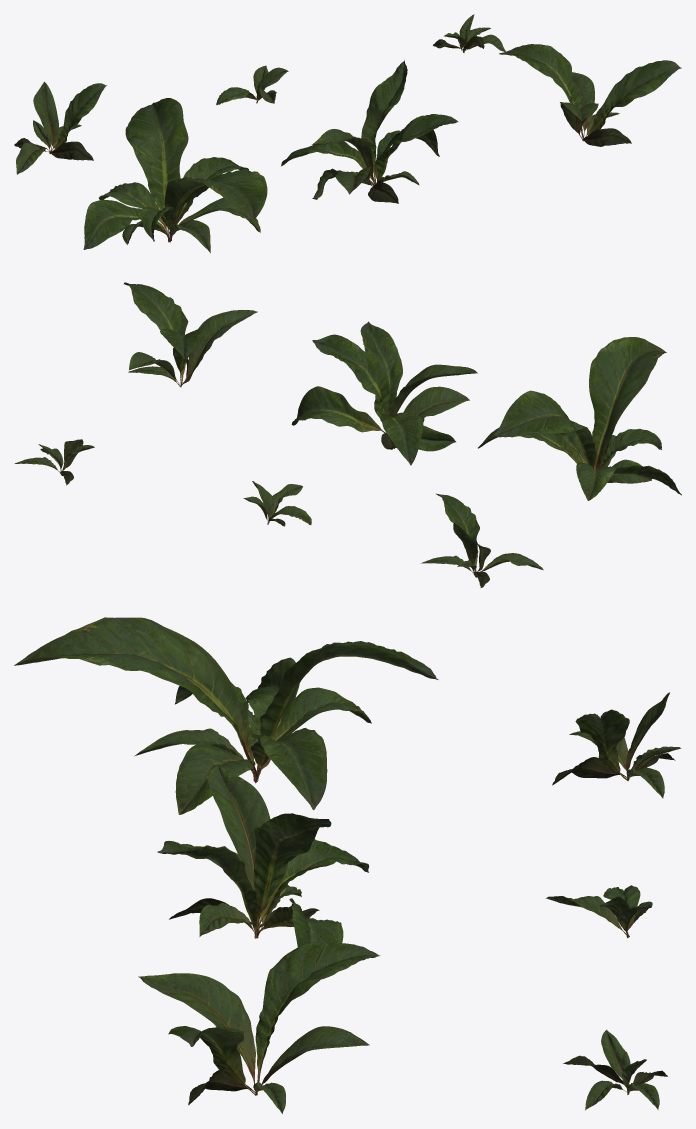
Rendered from plants.glb.
3 views of the same model, one above another, from view 1: azimuth 30°, elevation 25°; view 2: azimuth 150°, elevation 25°; view 3: azimuth 270°, elevation 25° (orthographic). The views are drawn at different scales.
Parts seen in each view (by area): view 1: anthurium_botany_01_a, anthurium_botany_01_b, anthurium_botany_01_c, anthurium_botany_04_d, anthurium_botany_05_e, anthurium_botany_06_f; view 2: anthurium_botany_01_a, anthurium_botany_01_b, anthurium_botany_01_c, anthurium_botany_04_d, anthurium_botany_05_e, anthurium_botany_06_f; view 3: anthurium_botany_01_a, anthurium_botany_01_b, anthurium_botany_01_c, anthurium_botany_04_d, anthurium_botany_06_f, anthurium_botany_05_e.
Boxes of the visible parts, left/top/right/bottom form: anthurium_botany_01_a: left=83, top=98, right=267, bottom=253; anthurium_botany_01_b: left=281, top=60, right=458, bottom=203; anthurium_botany_01_c: left=499, top=44, right=681, bottom=146; anthurium_botany_04_d: left=14, top=81, right=106, bottom=174; anthurium_botany_05_e: left=216, top=65, right=288, bottom=105; anthurium_botany_06_f: left=433, top=14, right=505, bottom=52; anthurium_botany_01_a: left=478, top=337, right=681, bottom=500; anthurium_botany_01_b: left=291, top=321, right=477, bottom=465; anthurium_botany_01_c: left=124, top=282, right=257, bottom=387; anthurium_botany_04_d: left=420, top=493, right=543, bottom=587; anthurium_botany_05_e: left=243, top=481, right=311, bottom=526; anthurium_botany_06_f: left=14, top=439, right=94, bottom=485; anthurium_botany_01_a: left=14, top=617, right=438, bottom=814; anthurium_botany_01_b: left=157, top=763, right=369, bottom=984; anthurium_botany_01_c: left=138, top=941, right=380, bottom=1113; anthurium_botany_04_d: left=552, top=692, right=681, bottom=798; anthurium_botany_06_f: left=563, top=1030, right=667, bottom=1110; anthurium_botany_05_e: left=545, top=885, right=652, bottom=937.
Size of the model in its own units: 2.8 by 0.5015 by 1.8.
1 material, 1 textured.
